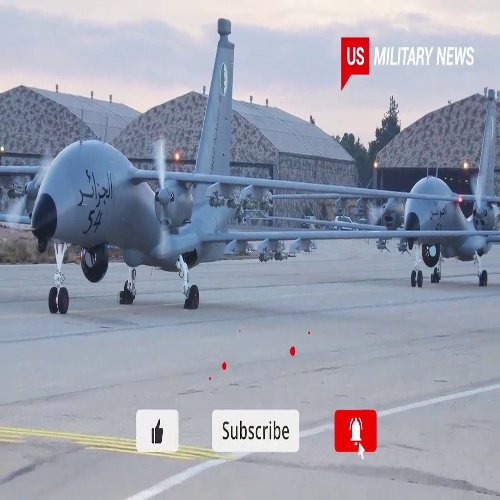uav: (2, 20, 378, 310), (391, 89, 498, 288)
